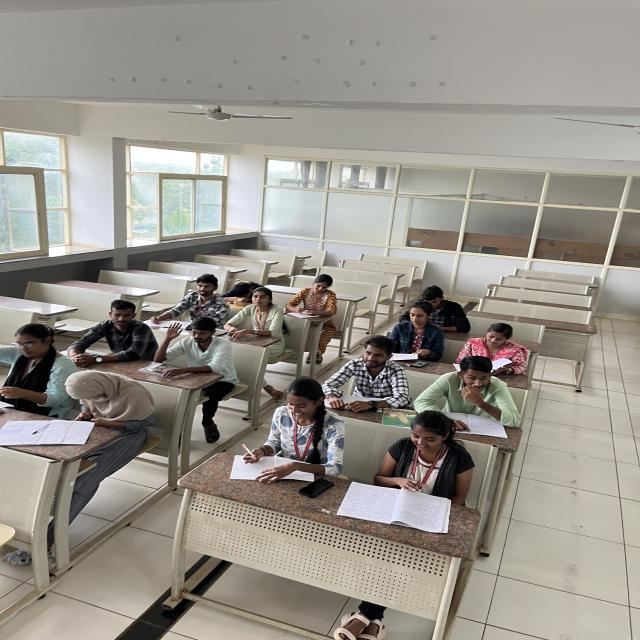Hand Rising: (158, 315, 234, 378)
Reading: (388, 300, 439, 362), (462, 319, 522, 371)
Sleeping: (223, 276, 258, 300)
Using Phone: (54, 364, 156, 442)
Writing: (231, 376, 351, 497), (364, 410, 474, 521), (283, 274, 341, 320)
